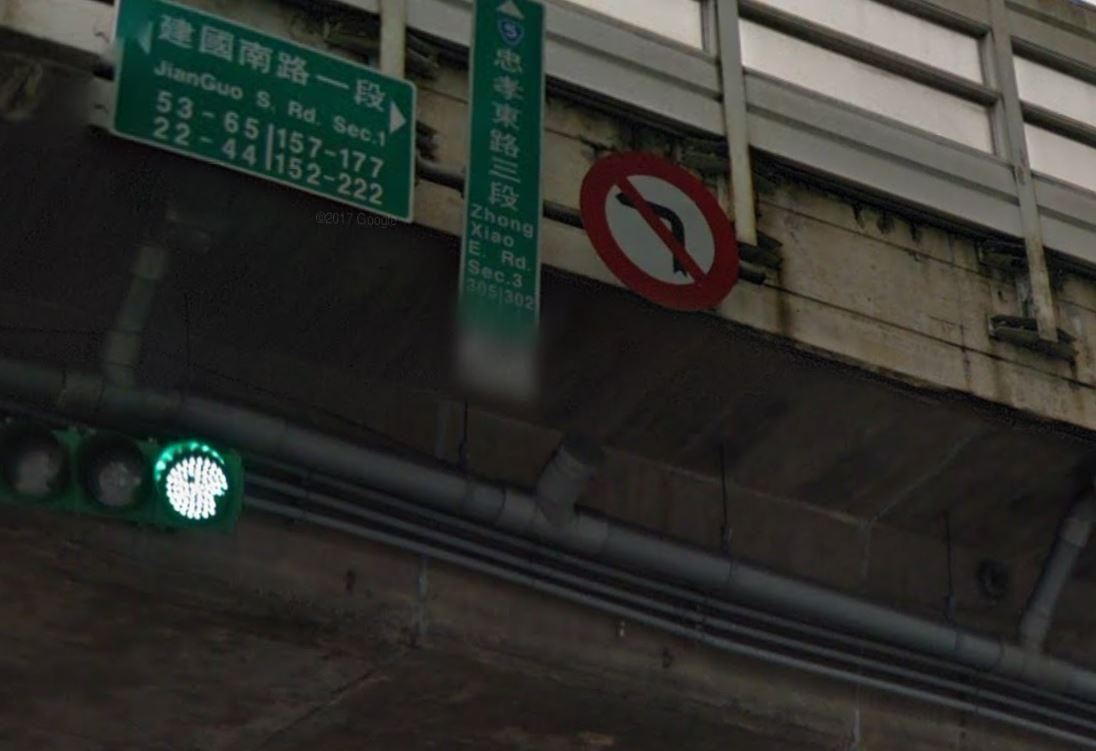green_traffic_light: (1, 413, 246, 534)
no_left_turn: (578, 150, 738, 311)
